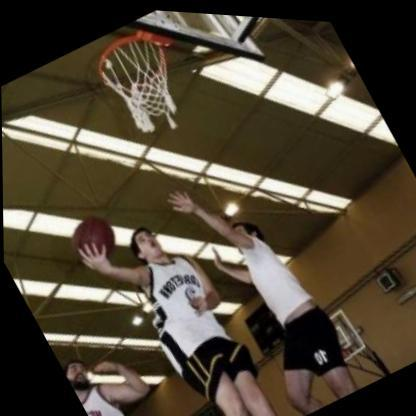basketball: (64, 204, 126, 269)
